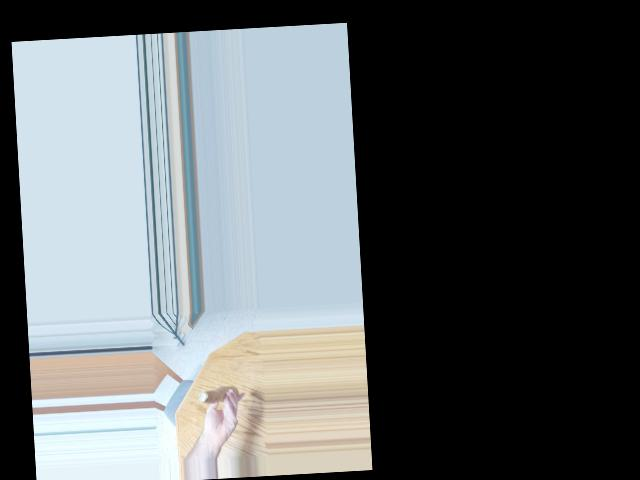sweet_potato: (204, 385, 237, 405)
